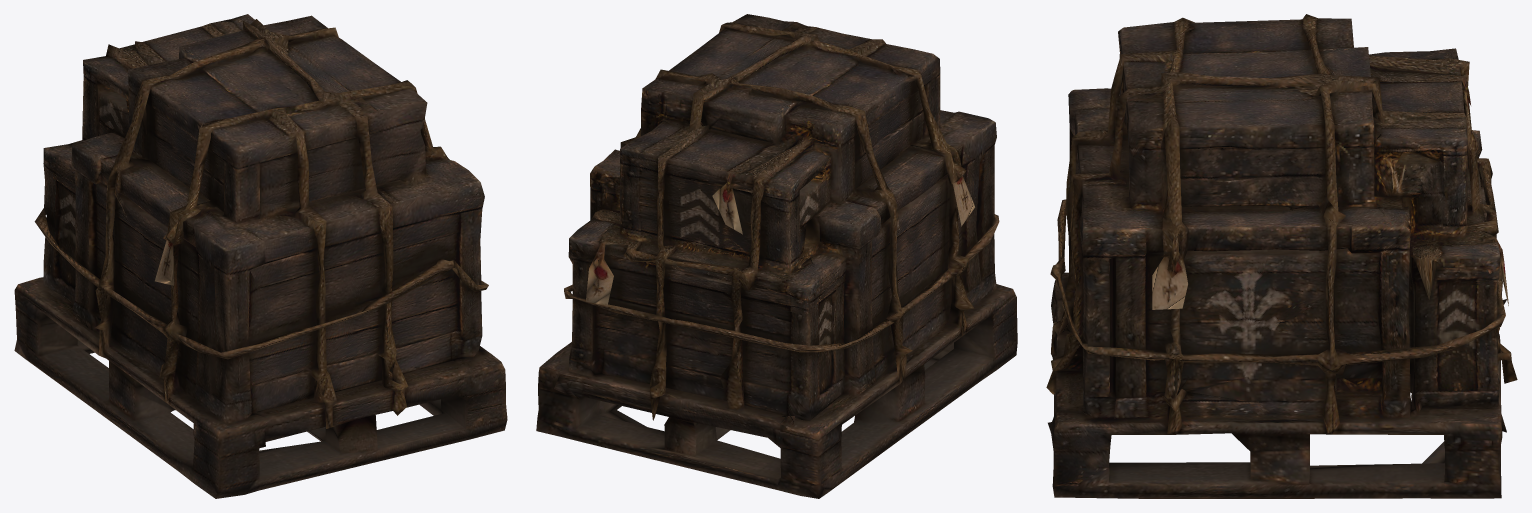
Rendered from raw_crates.glb.
3 views of the same model, side by side, from view 1: azimuth 30°, elevation 25°; view 2: azimuth 150°, elevation 25°; view 3: azimuth 270°, elevation 25° (orthographic). The views are drawn at different scales.
Visible parts, largest first — view 1: tripo_node_ddd0340b-af61-4129-8e64-f57a6b4f1cc2; view 2: tripo_node_ddd0340b-af61-4129-8e64-f57a6b4f1cc2; view 3: tripo_node_ddd0340b-af61-4129-8e64-f57a6b4f1cc2.
Part boxes in pixels (left/top/right/bottom): tripo_node_ddd0340b-af61-4129-8e64-f57a6b4f1cc2: left=14, top=14, right=507, bottom=498; tripo_node_ddd0340b-af61-4129-8e64-f57a6b4f1cc2: left=536, top=14, right=1017, bottom=498; tripo_node_ddd0340b-af61-4129-8e64-f57a6b4f1cc2: left=1046, top=14, right=1517, bottom=498.
Bounding box in the file's own units: 0.8165 × 0.8482 × 1.
Materials: 1 (1 with a texture image).
